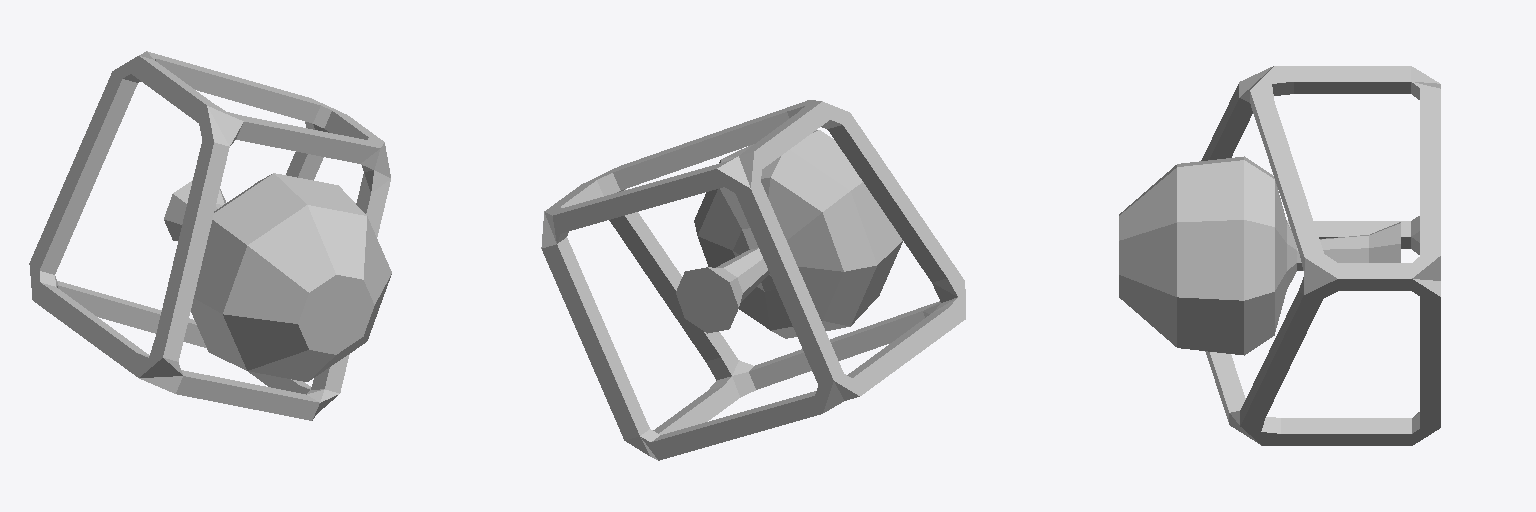
The model's file is tree.obj.
The picture shows the model from 3 angles: view 1: azimuth 30°, elevation 25°; view 2: azimuth 150°, elevation 25°; view 3: azimuth 270°, elevation 25°; orthographic projection.
Visible parts, largest first — view 1: Cube; view 2: Cube; view 3: Cube.
Part boxes in pixels (left/top/right/bottom): Cube: left=29, top=51, right=391, bottom=420; Cube: left=541, top=100, right=965, bottom=460; Cube: left=1119, top=66, right=1440, bottom=445.
Size of the model in its own units: 9.95 by 9.95 by 8.77.